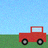vehicle: (19, 26, 46, 45)
